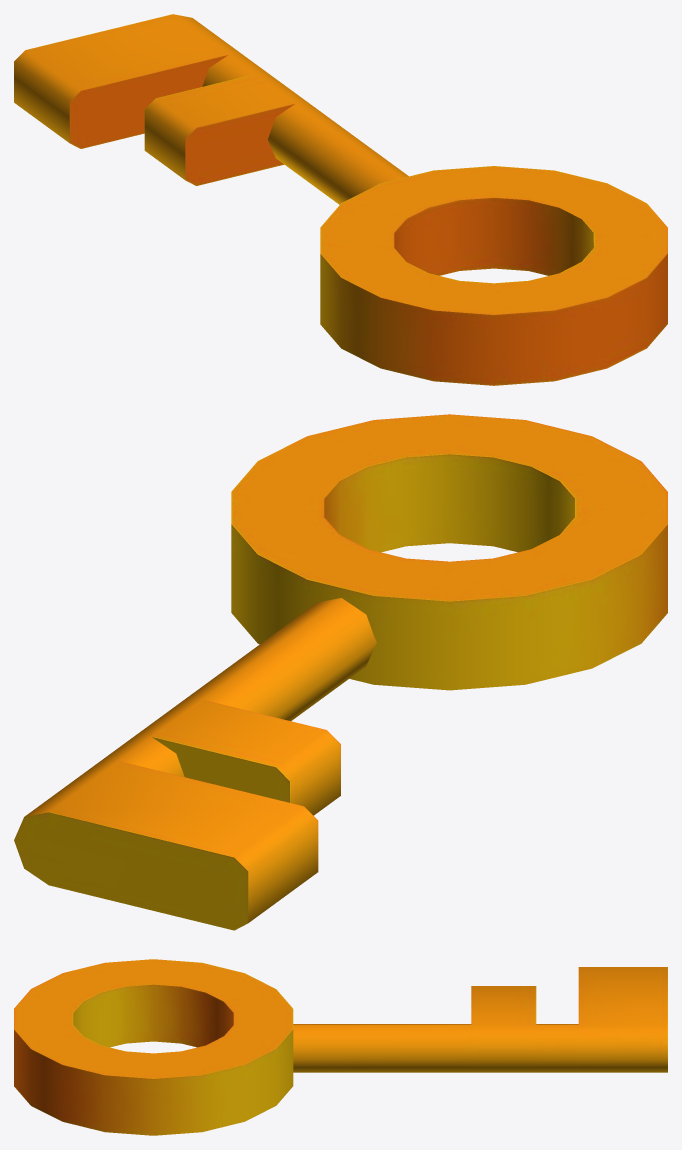
The model's file is key.glb.
3 renders of one model, top to bottom at view 1: azimuth 30°, elevation 25°; view 2: azimuth 150°, elevation 25°; view 3: azimuth 270°, elevation 25°, orthographic. The views are drawn at different scales.
Size of the model in its own units: 0.4435 by 0.0959 by 1.
1 material, 1 textured.
